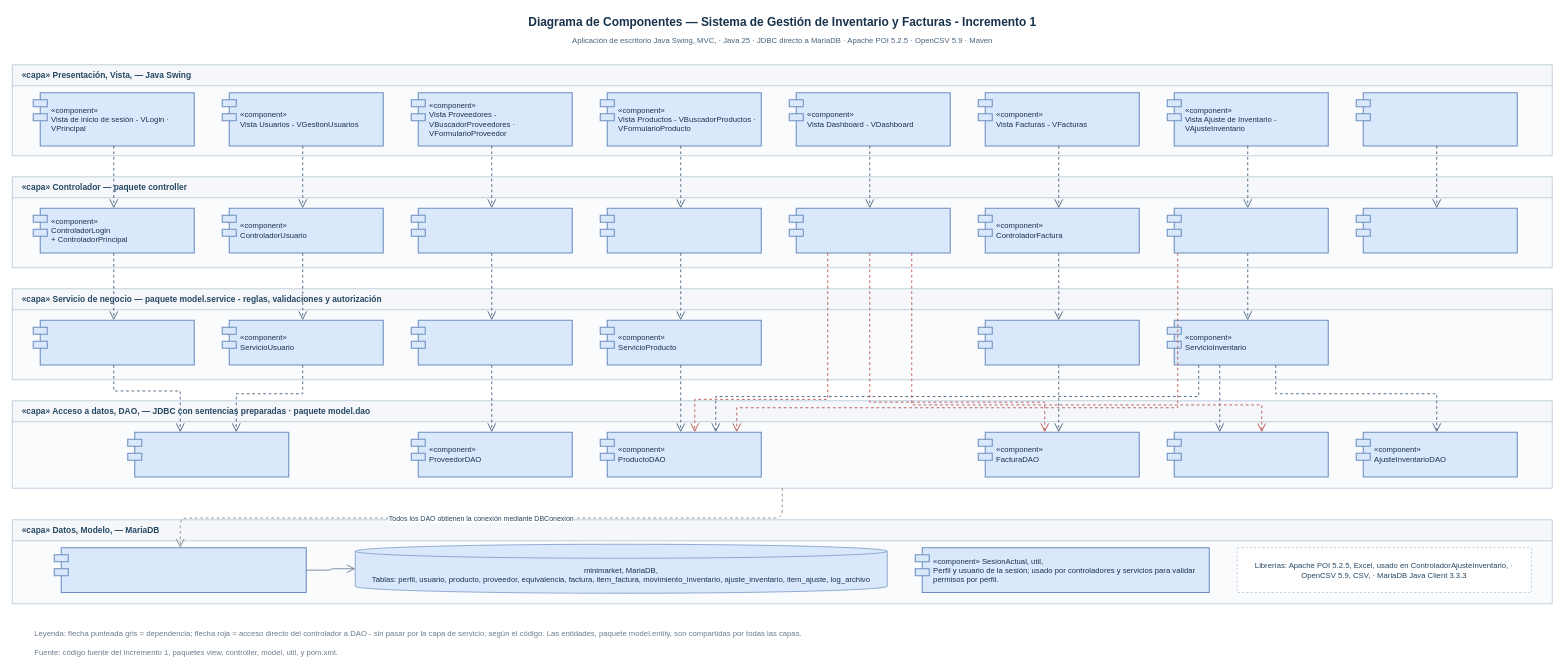
This 1565x671 diagram has some shape labels left out. Each missing label, with the centre of its shape:
"«component» ControladorAjusteInventario" belongs at point 1247,230.
"«component» ControladorDashboard" belongs at point 869,230.
"«component» ControladorHistorial" belongs at point 1436,230.
"«component» ControladorProducto" belongs at point 680,230.
"«component» ControladorProveedor" belongs at point 491,230.
"«component» DBConexion, util, Conexión JDBC · MariaDB Java Client 3.3.3" belongs at point 179,570.
"«component» MovimientoInventarioDAO" belongs at point 1247,454.
"«component» ServicioAutenticacion" belongs at point 113,342.
"«component» ServicioFactura" belongs at point 1058,342.
"«component» ServicioProveedor" belongs at point 491,342.
"«component» UsuarioDAO" belongs at point 208,454.
"«component» Vista Historial - VHistorial" belongs at point 1436,119.
